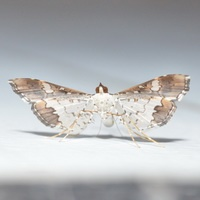insect: (9, 74, 189, 147)
